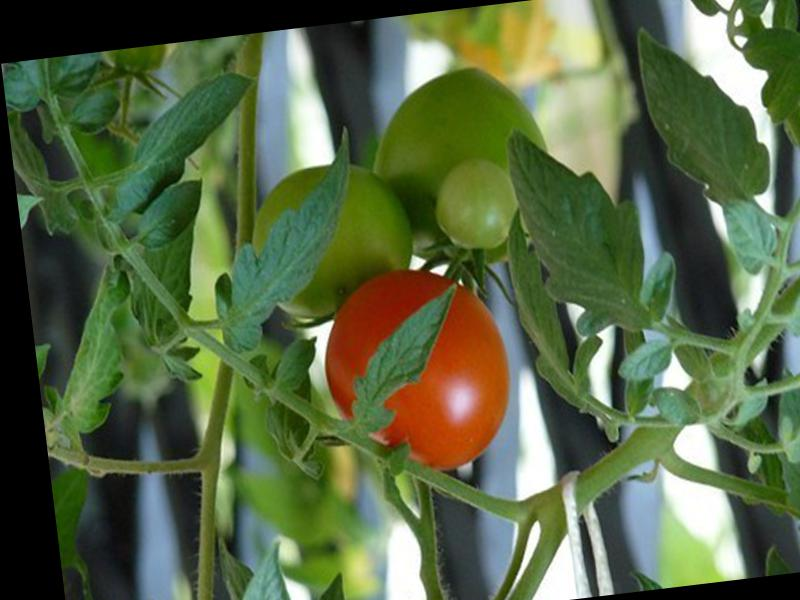Tomato: (315, 261, 520, 483)
